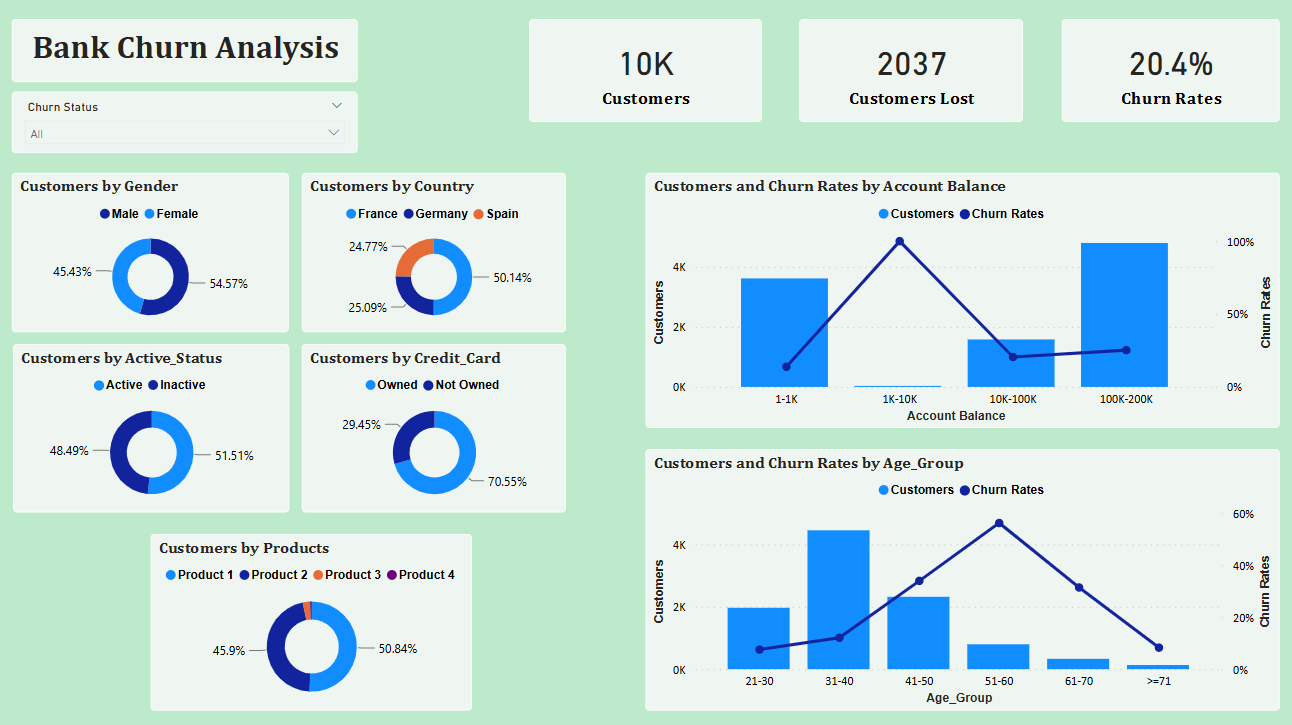

Layout of this report page (visuals, bound fields, positions):
{"tool":"powerbi","page":{"name":"Dashboard","canvas":[1280,720],"ordinal":0},"visuals":[{"type":"card","fields":{"Values":["Bank Customer Churn Prediction.Customers"]},"box":[524.8,20.3,229.5,101.6],"z":0},{"type":"card","fields":{"Values":["Bank Customer Churn Prediction.Customers Lost"]},"box":[791.9,20.3,221.1,101.6],"z":1000},{"type":"card","fields":{"Values":["Bank Customer Churn Prediction.Churn Rates"]},"box":[1050.7,20.3,215.2,101.6],"z":2000},{"type":"donutChart","fields":{"Category":["Bank Customer Churn Prediction.Gender"],"Y":["Bank Customer Churn Prediction.Customers"]},"box":[13.1,172.1,273.7,157.8],"z":3000},{"type":"donutChart","fields":{"Y":["Bank Customer Churn Prediction.Customers"],"Category":["Bank Customer Churn Prediction.Active_Status"]},"box":[14.3,340.7,272.5,166.2],"z":4000},{"type":"donutChart","fields":{"Y":["Bank Customer Churn Prediction.Customers"],"Category":["Bank Customer Churn Prediction.Country"]},"box":[300,172.1,260.6,157.8],"z":5000},{"type":"donutChart","fields":{"Y":["Bank Customer Churn Prediction.Customers"],"Category":["Bank Customer Churn Prediction.Products"]},"box":[150.6,528.4,318,174.5],"z":6000},{"type":"donutChart","fields":{"Y":["Bank Customer Churn Prediction.Customers"],"Category":["Bank Customer Churn Prediction.Credit_Card"]},"box":[300,340.7,260.6,166.2],"z":7000},{"type":"lineStackedColumnComboChart","fields":{"Y":["Bank Customer Churn Prediction.Customers"],"Category":["Age Group Table.Age_Group"],"Y2":["Bank Customer Churn Prediction.Churn Rates"]},"box":[639.5,444.7,626.4,258.2],"z":8000},{"type":"lineStackedColumnComboChart","fields":{"Y":["Bank Customer Churn Prediction.Customers"],"Category":["Account Balance Table.Account Balance"],"Y2":["Bank Customer Churn Prediction.Churn Rates"]},"box":[639.5,172.1,626.4,252.2],"z":9000},{"type":"slicer","fields":{"Values":["Bank Customer Churn Prediction.Churn Status"]},"box":[13.1,90.8,341.9,61],"z":10000},{"type":"textbox","box":[13.1,20.3,341.9,62.2],"z":11000}]}

Visuals, with their boxes in screenshot pixels (x1, y1, x2, y2), scaled from the page's 1280x720 canvas onto the 1292x725 screenshot:
card - Bank Customer Churn Prediction.Customers: 530/20/761/123
card - Bank Customer Churn Prediction.Customers Lost: 799/20/1022/123
card - Bank Customer Churn Prediction.Churn Rates: 1061/20/1278/123
donutChart - Bank Customer Churn Prediction.Gender x Bank Customer Churn Prediction.Customers: 13/173/289/332
donutChart - Bank Customer Churn Prediction.Customers x Bank Customer Churn Prediction.Active_Status: 14/343/289/510
donutChart - Bank Customer Churn Prediction.Customers x Bank Customer Churn Prediction.Country: 303/173/566/332
donutChart - Bank Customer Churn Prediction.Customers x Bank Customer Churn Prediction.Products: 152/532/473/708
donutChart - Bank Customer Churn Prediction.Customers x Bank Customer Churn Prediction.Credit_Card: 303/343/566/510
lineStackedColumnComboChart - Bank Customer Churn Prediction.Customers x Age Group Table.Age_Group: 645/448/1278/708
lineStackedColumnComboChart - Bank Customer Churn Prediction.Customers x Account Balance Table.Account Balance: 645/173/1278/427
slicer - Bank Customer Churn Prediction.Churn Status: 13/91/358/153
textbox: 13/20/358/83
